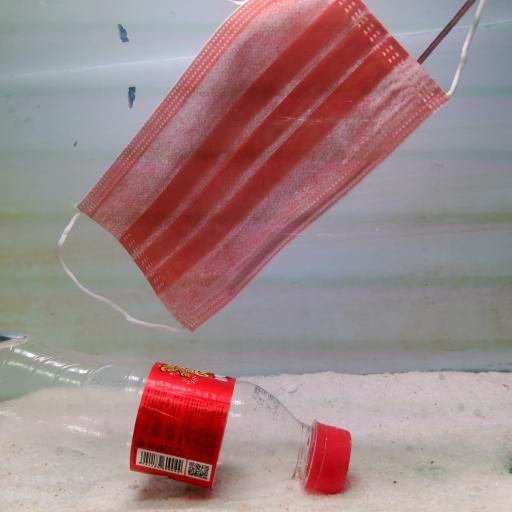bottle_cap: (306, 418, 351, 498)
mask: (58, 2, 487, 328)
plastic_bottle: (2, 328, 362, 502)
